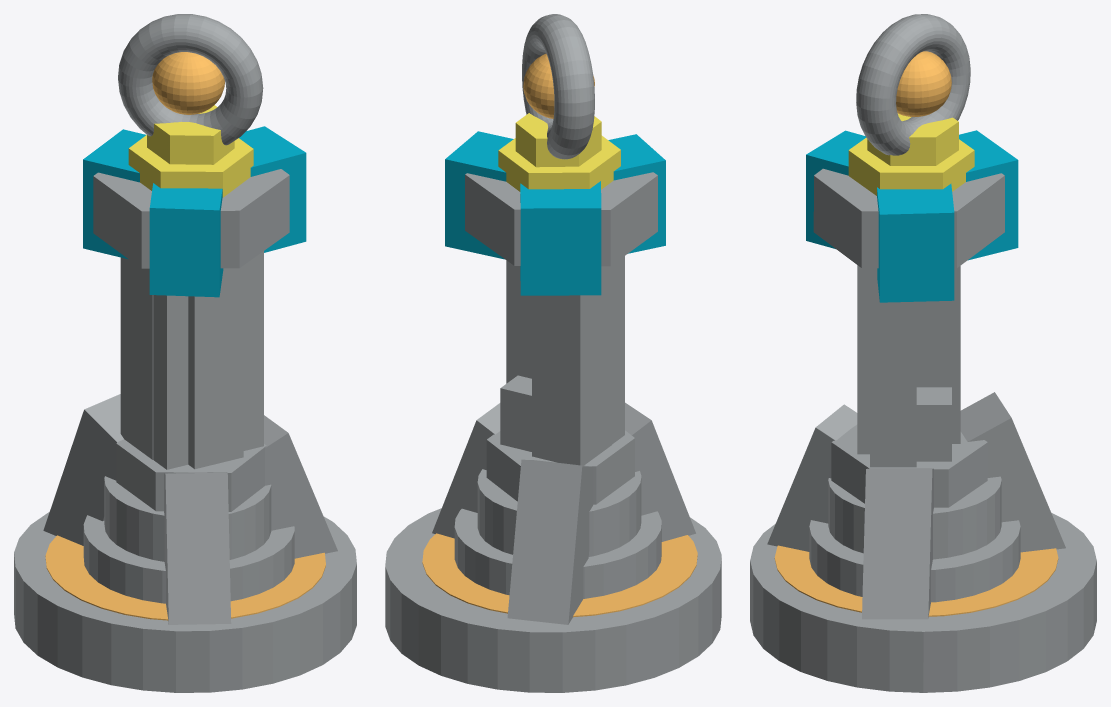
Rendered from inferno.fbx.
3 views of the same model, side by side, from view 1: azimuth 30°, elevation 25°; view 2: azimuth 150°, elevation 25°; view 3: azimuth 270°, elevation 25° (orthographic).
Visible parts, largest first — view 1: obj_0; view 2: obj_0; view 3: obj_0.
Part boxes in pixels (x1,y1,x2,y2): obj_0: (14, 14, 356, 692); obj_0: (385, 14, 721, 692); obj_0: (750, 14, 1096, 692).
Size of the model in its own units: 3900 by 7670 by 4000.
